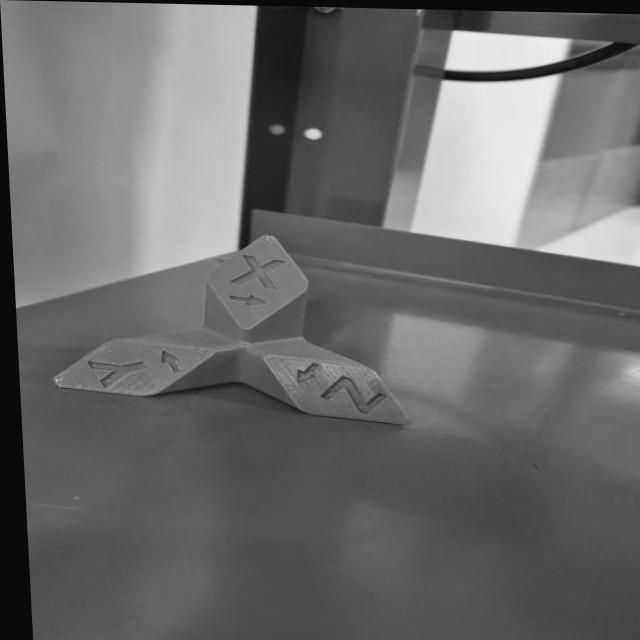eje: (39, 226, 415, 431)
